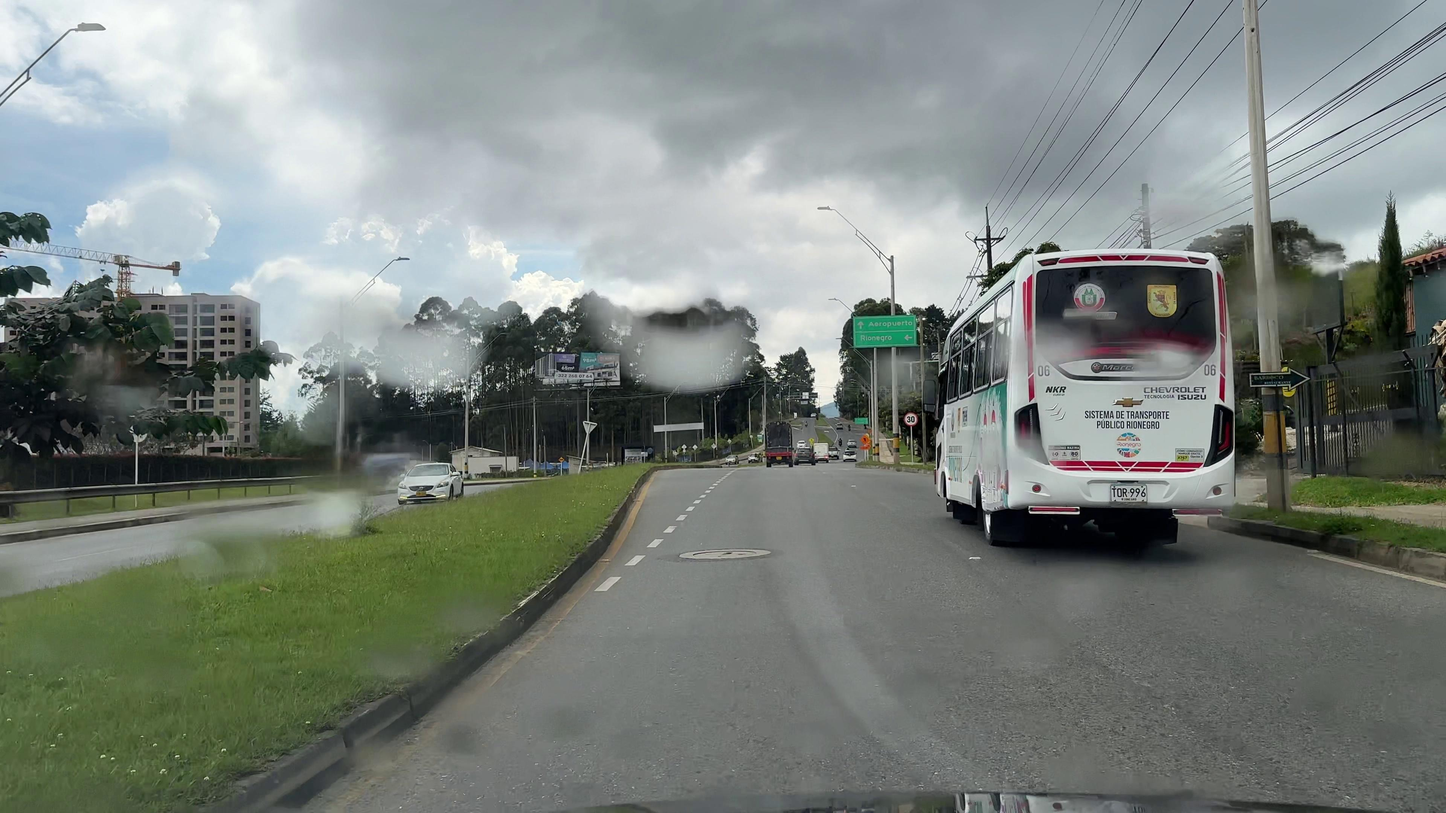registro: (693, 551, 756, 558)
